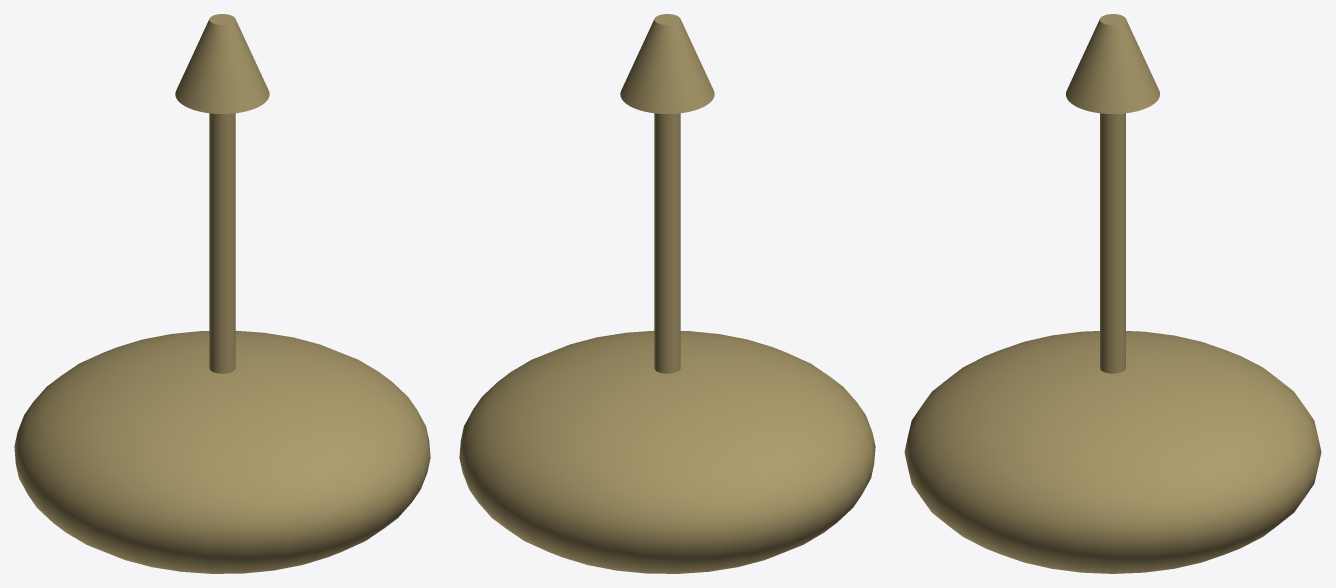
The model's file is water-clock-garden-and-hydraulic-puzzles-conical-float-7ba28d83__31925.glb.
3 views of the same model, side by side, from view 1: azimuth 30°, elevation 25°; view 2: azimuth 150°, elevation 25°; view 3: azimuth 270°, elevation 25° (orthographic).
Visible parts, largest first — view 1: conical-float-valve; view 2: conical-float-valve; view 3: conical-float-valve.
Part boxes in pixels (<box>): conical-float-valve: <box>14,14,430,573</box>; conical-float-valve: <box>459,14,875,573</box>; conical-float-valve: <box>904,14,1321,573</box>.
Size of the model in its own units: 0.38 by 0.52 by 0.38.
